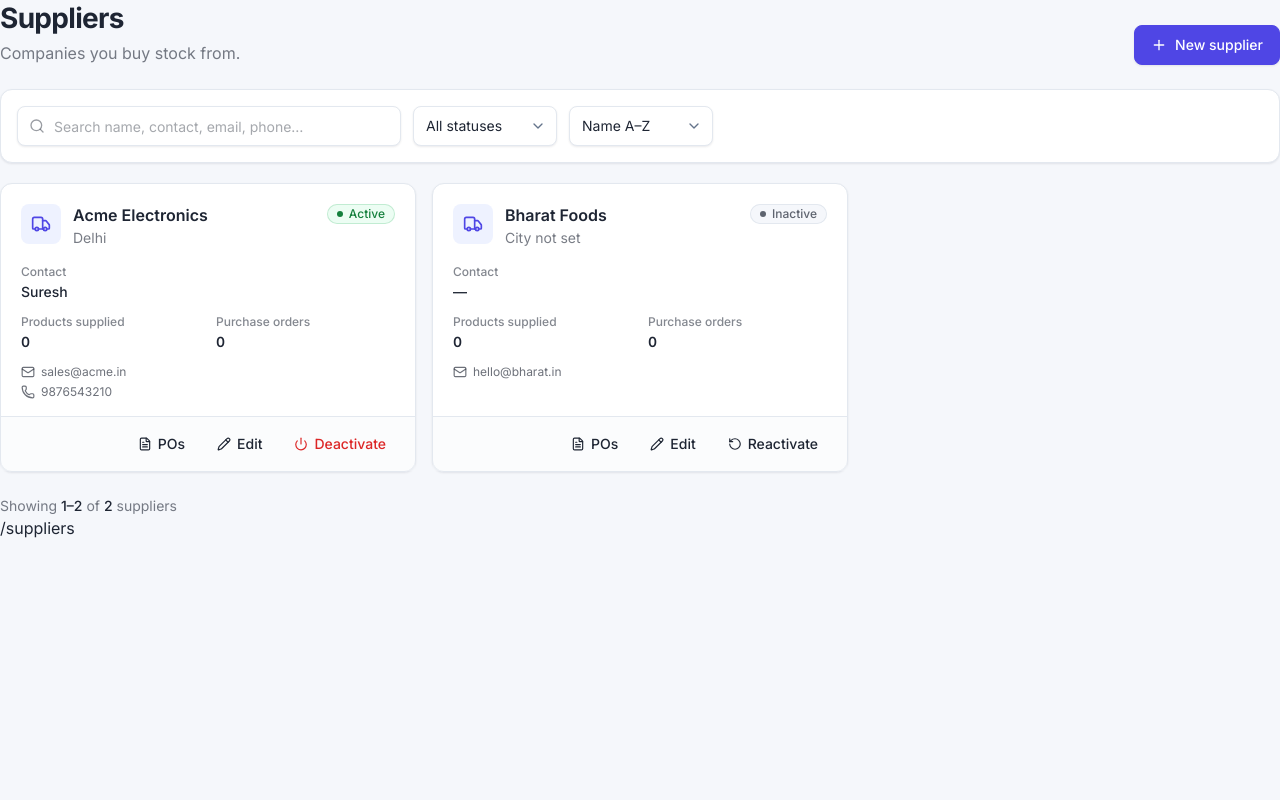
Test: SuppliersPage › the form validates name, email and phone
Expected: the heading "Acme Electronics" is shown, 73,205 -> 208,225
Click the button "New supplier" at (1207, 45), box 1134,25 -> 1279,65
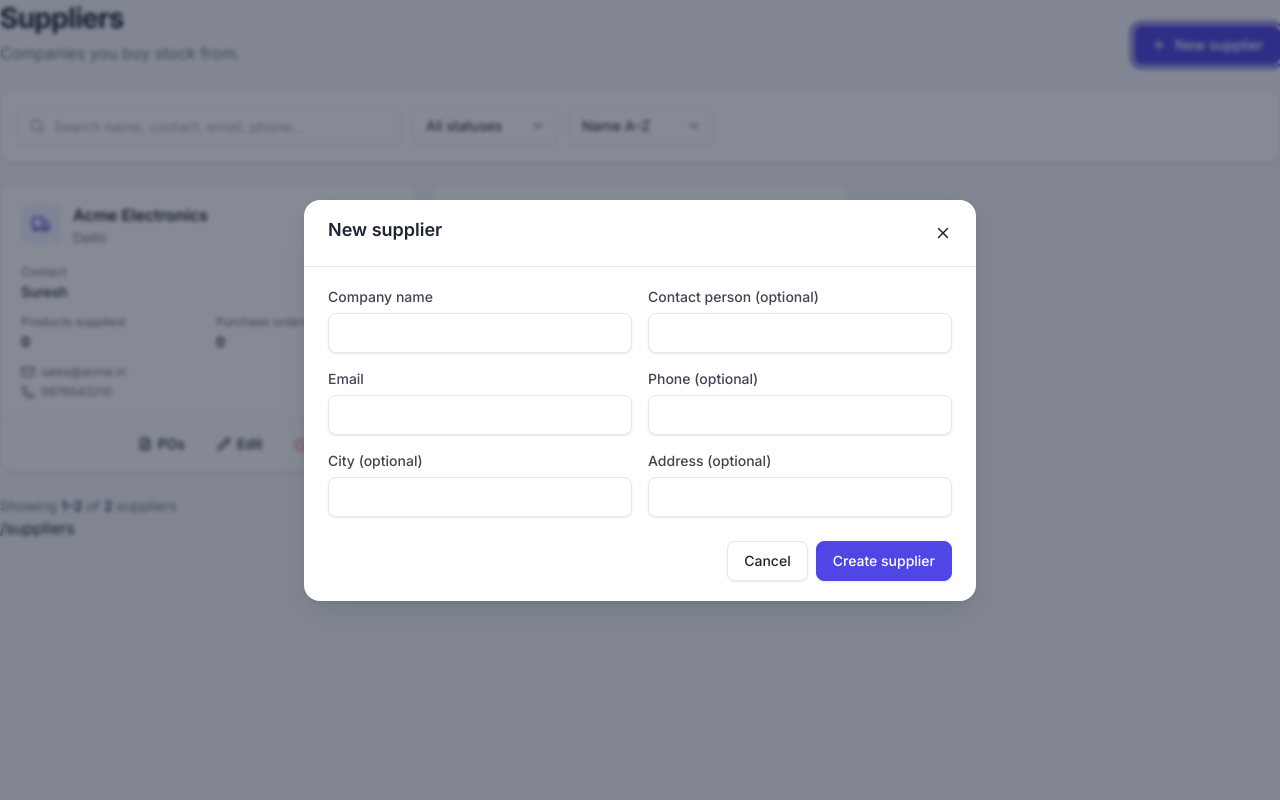
Type "nope" into the field labelled "Email" at (480, 414), box 328,394 -> 632,434
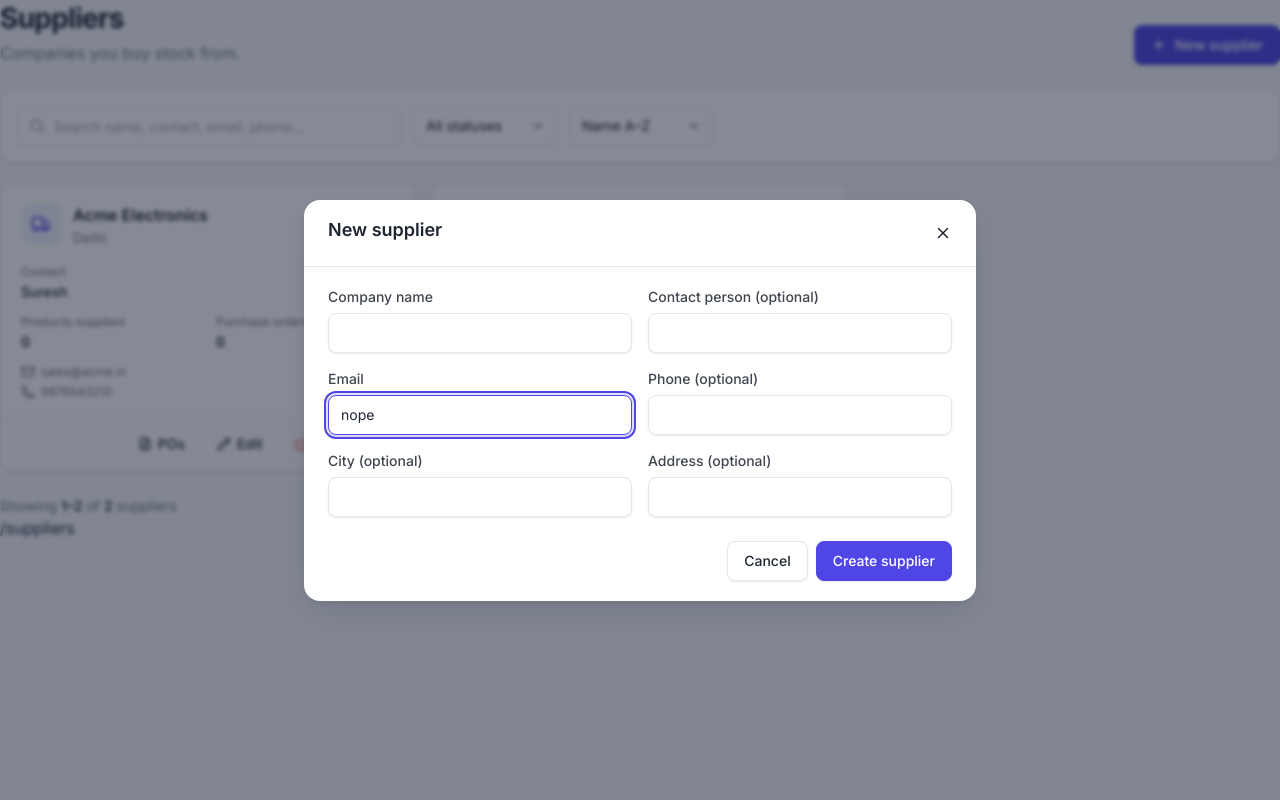
Type "abc" into the field labelled "Phone (optional)" at (800, 414), box 648,394 -> 952,434
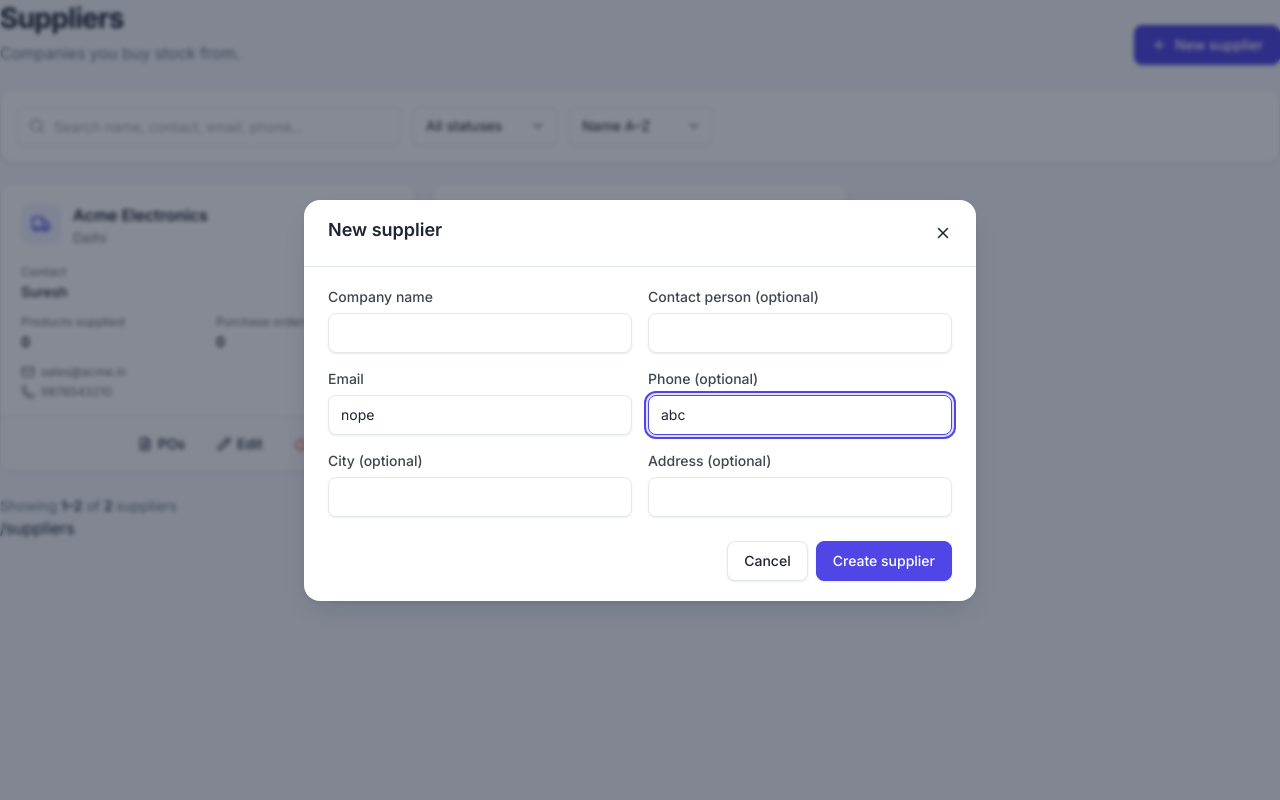
Click the button "Create supplier" at (884, 560), box 816,540 -> 952,580
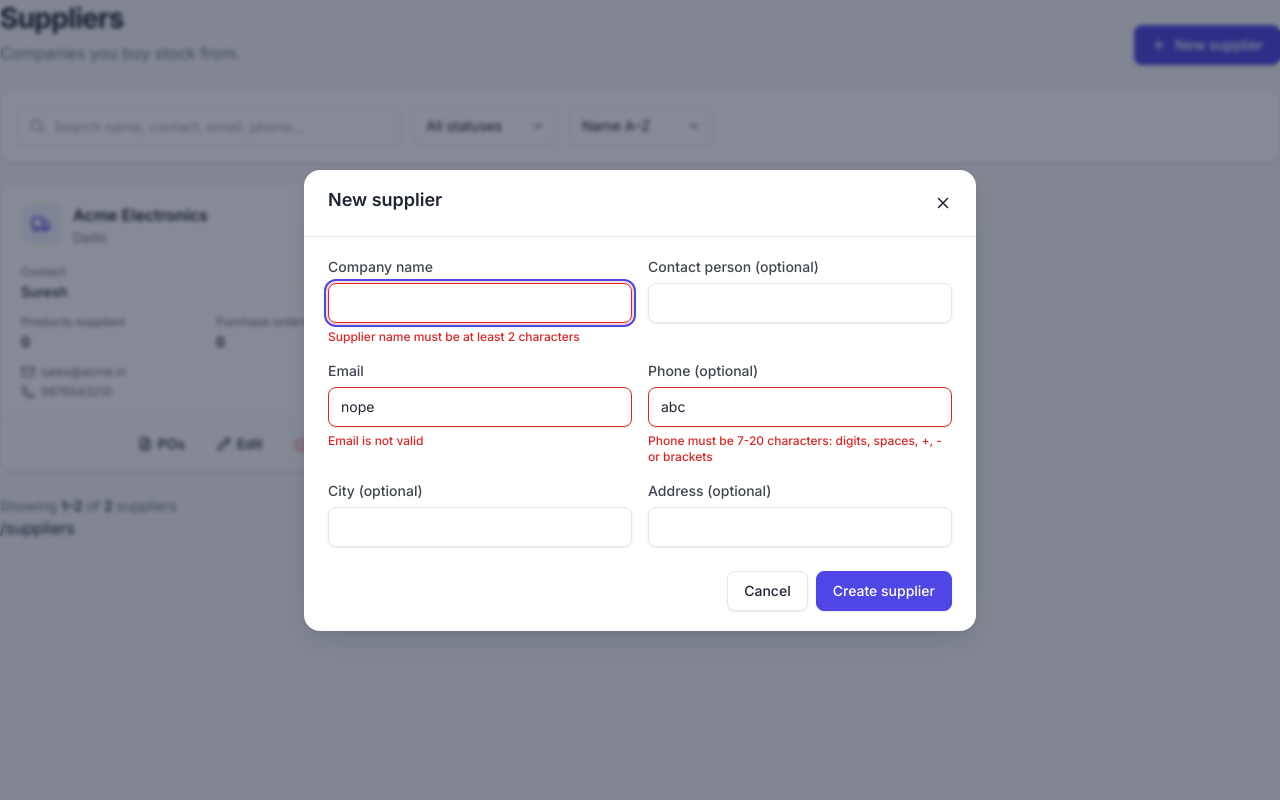
Expected: the text "Supplier name must be at least 2 characters" is shown, 328,328 -> 580,344
Expected: the text "Email is not valid" is shown, 328,432 -> 424,448
Expected: the text "Phone must be 7-20 characters" is shown, 648,432 -> 942,464
